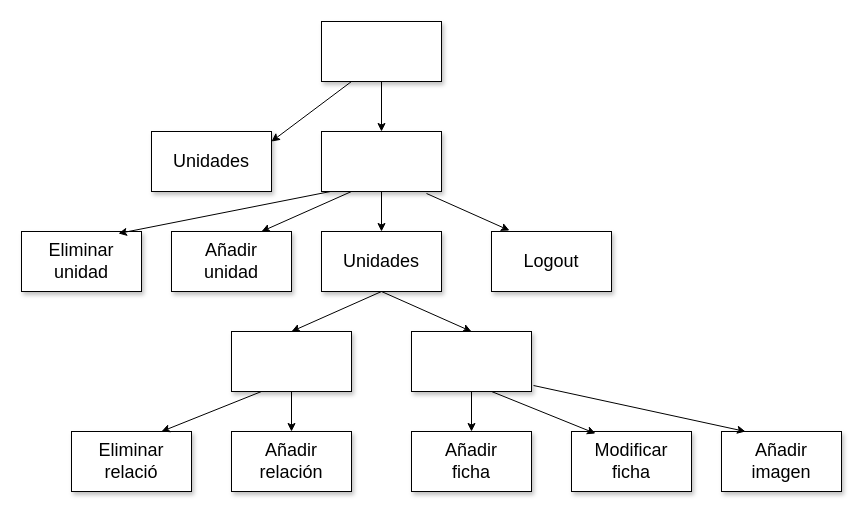
Some shapes in this 865 by 516 pixel diagram are drawn without their labels. The centre of each missing label's shape, as x and y in pixels:
"Ficha" goes at (x=472, y=362).
"Inicio" goes at (x=382, y=52).
"Login" goes at (x=382, y=162).
"Relaciones" goes at (x=292, y=362).
